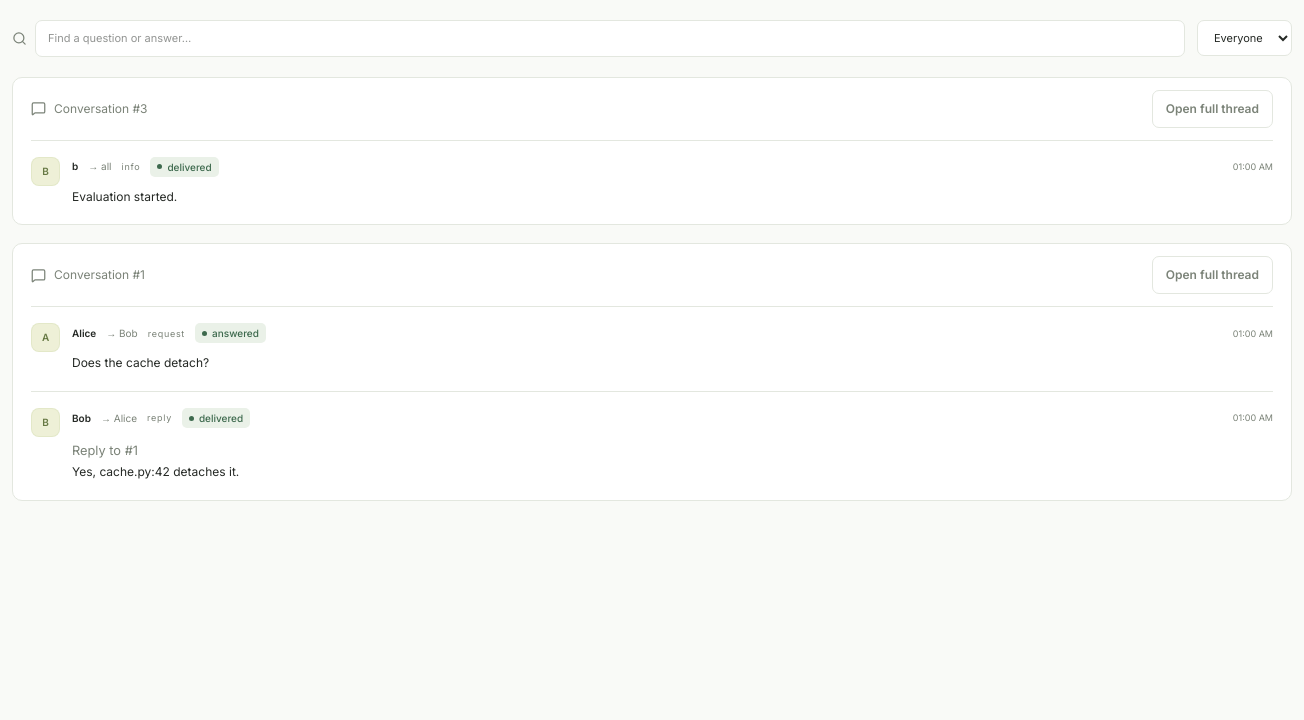
Test: team coordination › keeps answers with their question and filters complete threads
The width and height of the screenshot is (1304, 720).
Expected: the text "Does the cache detach?" is shown, [72,355,209,370]
Expected: the text "Yes, cache.py:42 detaches it." is shown, [72,464,239,479]
Type "cache.py" into the field named "Search team conversations".
click(610, 38); type("cache.py")  # box [35,20,1185,56]
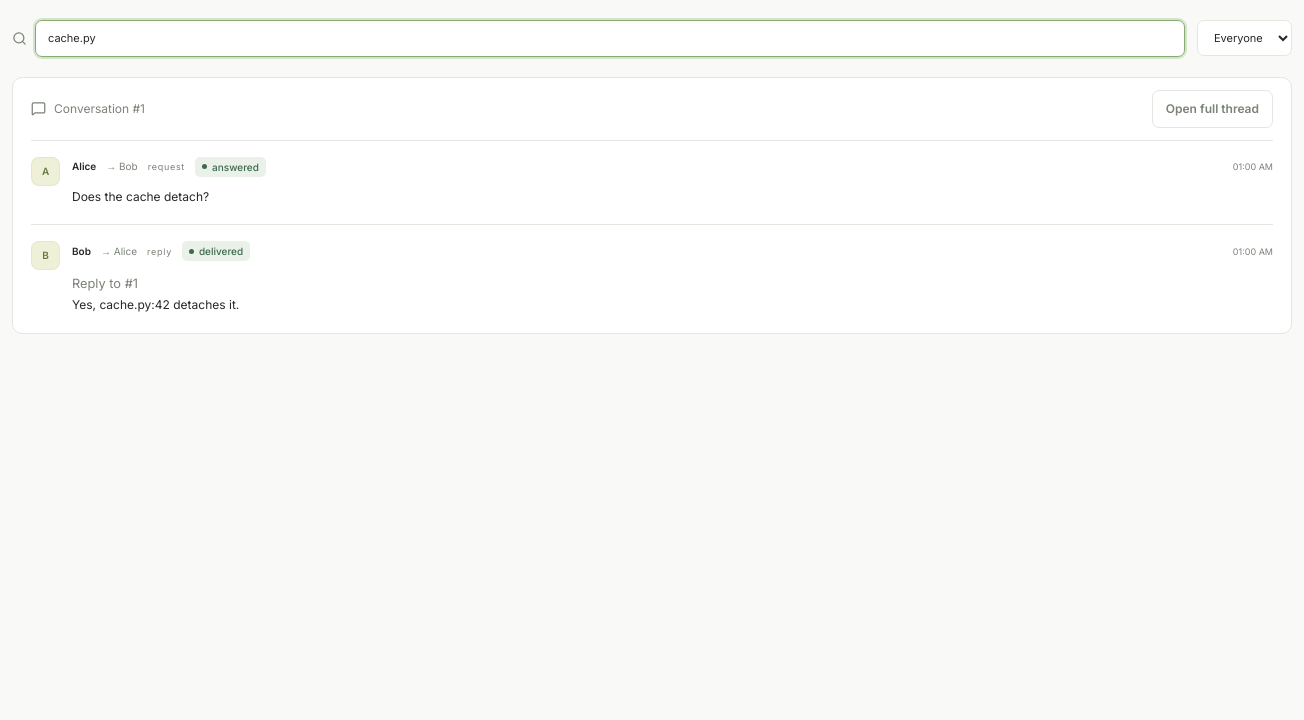
Expected: the text "Does the cache detach?" is shown, [72,188,209,204]
Result: the text "Evaluation started." is gone
